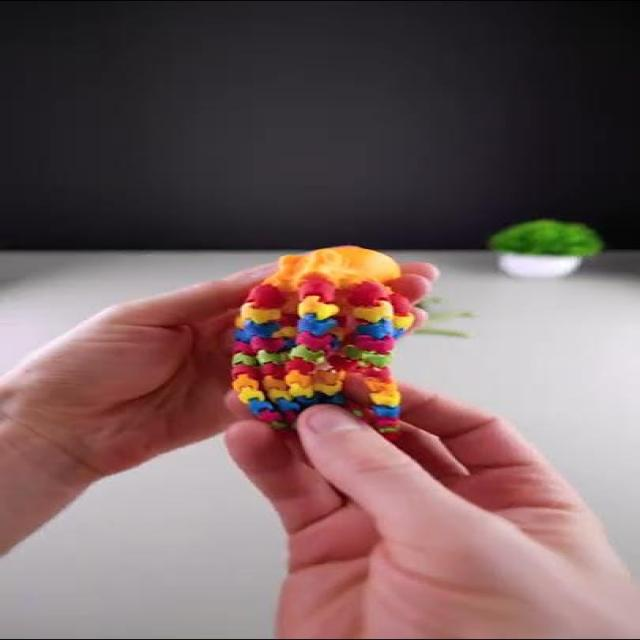Without deffect: (167, 227, 427, 455)
